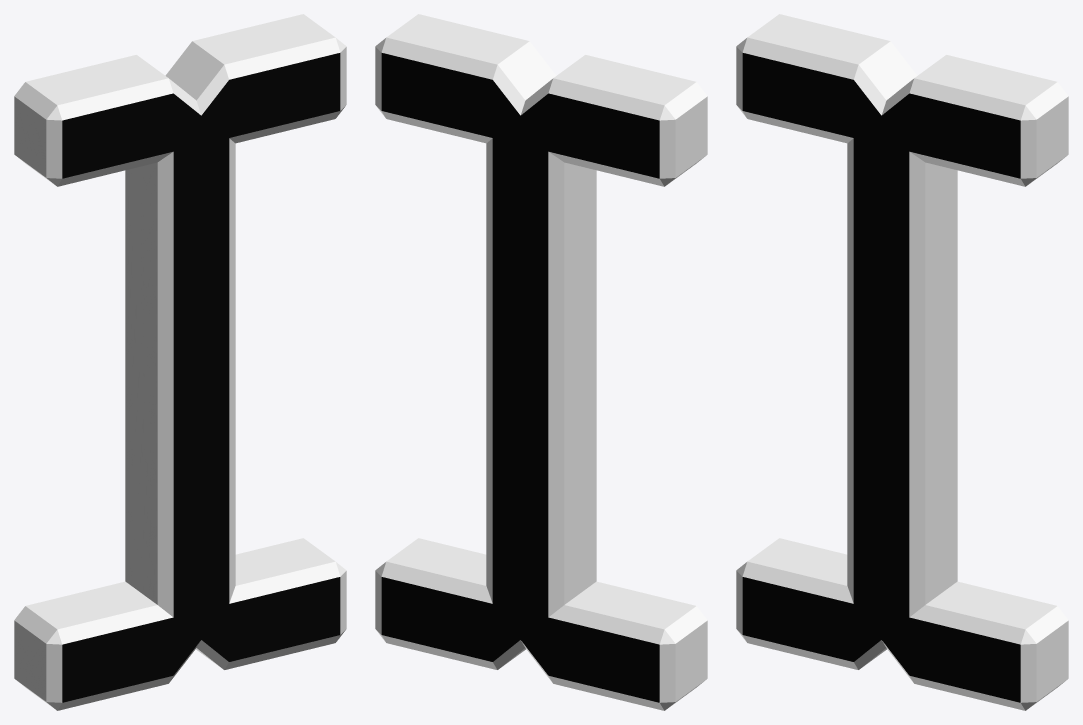
File: cursor.fbx
The picture shows the model from 3 angles, left to right: view 1: azimuth 30°, elevation 25°; view 2: azimuth 150°, elevation 25°; view 3: azimuth 330°, elevation 25°; orthographic projection.
Visible parts, largest first — view 1: Cursor_I_3D; view 2: Cursor_I_3D; view 3: Cursor_I_3D.
Boxes of the visible parts, x1=… form: Cursor_I_3D: x1=14, y1=14, x2=346, y2=710; Cursor_I_3D: x1=375, y1=14, x2=707, y2=710; Cursor_I_3D: x1=736, y1=14, x2=1068, y2=710.
Size of the model in its own units: 54 by 104 by 13.
